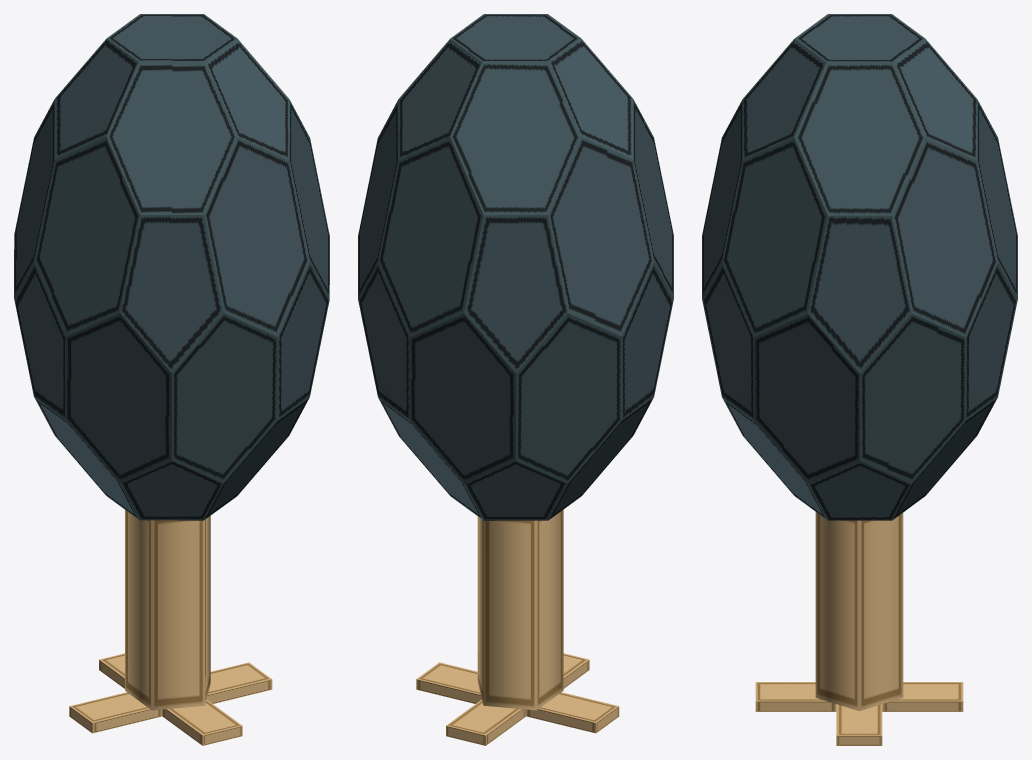
The model's file is Tree017.FBX.
3 renders of one model, left to right at view 1: azimuth 30°, elevation 25°; view 2: azimuth 150°, elevation 25°; view 3: azimuth 270°, elevation 25°, orthographic.
Visible parts, largest first — view 1: tree017; view 2: tree017; view 3: tree017.
Part boxes in pixels (left/top/right/bottom): tree017: left=14, top=14, right=329, bottom=745; tree017: left=358, top=14, right=673, bottom=745; tree017: left=702, top=14, right=1017, bottom=745.
Size of the model in its own units: 138 by 318 by 137.
Materials: 1 (1 with a texture image).
